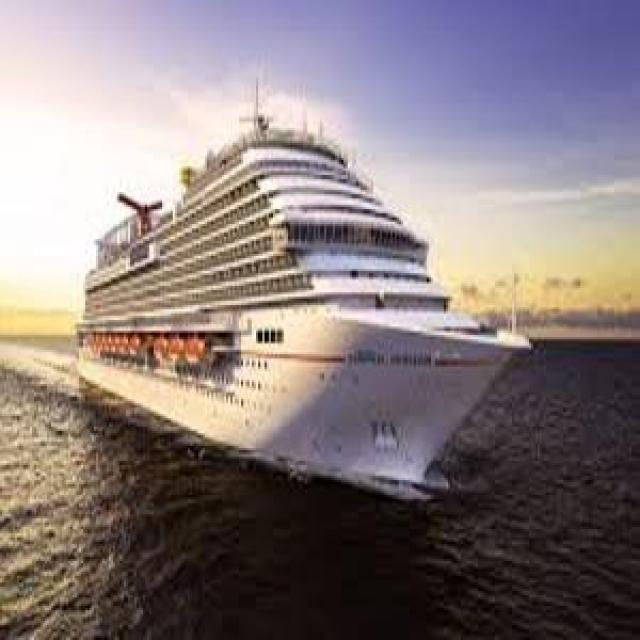passenger ship: (71, 96, 528, 489)
